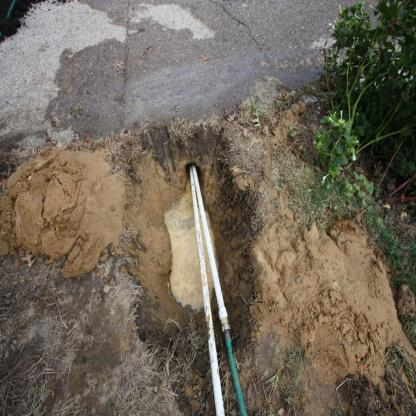PVC: (189, 163, 227, 415)
